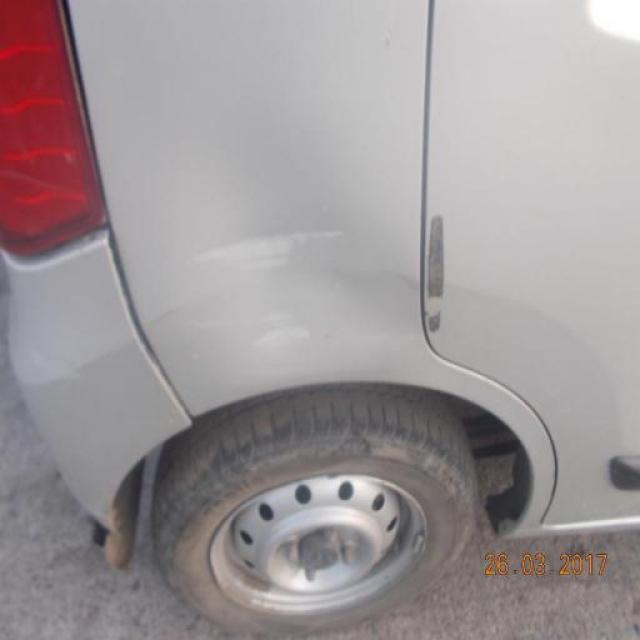dent: (201, 221, 348, 272), (254, 315, 311, 353)
scratch: (428, 215, 446, 306), (425, 310, 443, 334)
